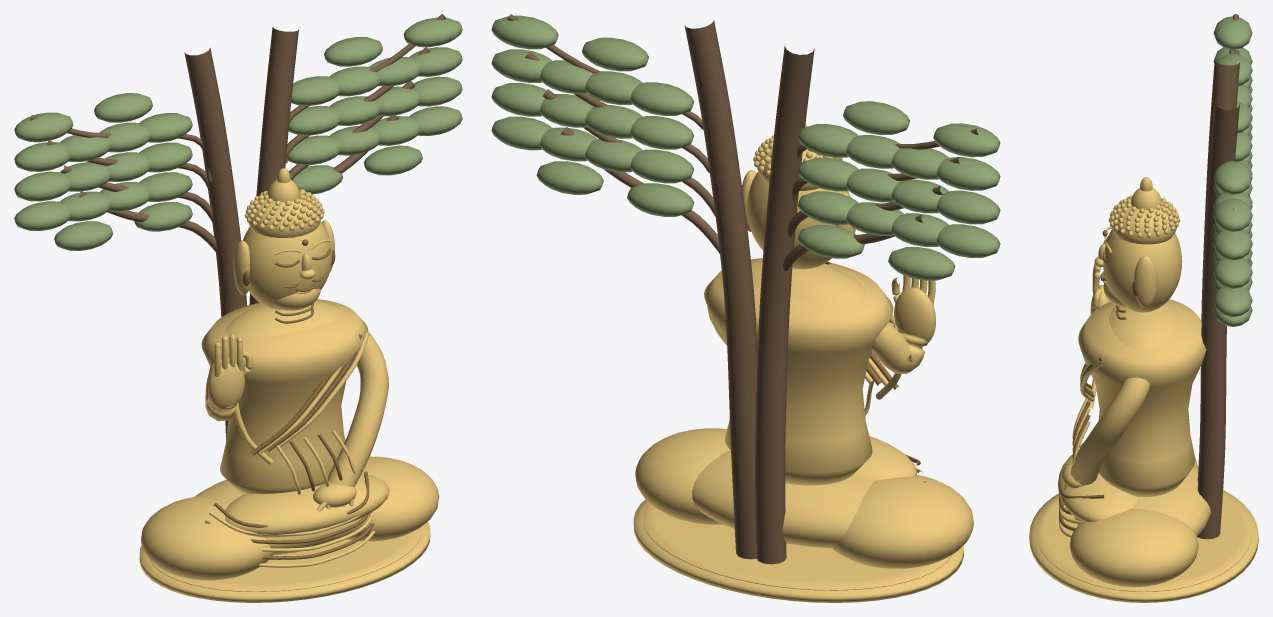
File: buddha-golden.glb
3 views of the same model, side by side, from view 1: azimuth 30°, elevation 25°; view 2: azimuth 150°, elevation 25°; view 3: azimuth 270°, elevation 25° (orthographic). The views are drawn at different scales.
Visible parts, largest first — view 1: Bodhi leaf (×32), robe and torso, Bodhi trunk (×2), lotus base (×2), left knee, folded legs, serene face, right knee, resting sleeve, shoulders, cross-legged lower robe, curled hair cap (+6 smaller); view 2: Bodhi leaf (×32), Bodhi trunk (×2), robe and torso, lotus base (×2), left knee, cross-legged lower robe, right knee, shoulders, serene face, raised sleeve, raised palm, folded legs (+1 smaller); view 3: robe and torso, Bodhi trunk (×2), lotus base (×2), right knee, Bodhi leaf (×10), serene face, resting sleeve, shoulders, folded legs, cross-legged lower robe, curled hair cap, elongated ear (+1 smaller).
Boxes of the visible parts, left/top/right/bottom form: Bodhi leaf (×32): left=14, top=17, right=462, bottom=250; robe and torso: left=201, top=299, right=368, bottom=494; Bodhi trunk (×2): left=184, top=27, right=298, bottom=439; lotus base (×2): left=139, top=521, right=430, bottom=602; left knee: left=141, top=496, right=273, bottom=580; folded legs: left=224, top=473, right=389, bottom=537; serene face: left=243, top=222, right=332, bottom=310; right knee: left=346, top=456, right=439, bottom=541; resting sleeve: left=327, top=332, right=388, bottom=486; shoulders: left=226, top=300, right=343, bottom=339; cross-legged lower robe: left=195, top=479, right=367, bottom=555; curled hair cap: left=248, top=194, right=320, bottom=237; Bodhi leaf (×32): left=491, top=15, right=1000, bottom=280; Bodhi trunk (×2): left=684, top=20, right=814, bottom=564; robe and torso: left=704, top=258, right=893, bottom=485; lotus base (×2): left=633, top=499, right=963, bottom=602; left knee: left=832, top=475, right=973, bottom=568; cross-legged lower robe: left=692, top=450, right=874, bottom=548; right knee: left=635, top=428, right=729, bottom=524; shoulders: left=751, top=259, right=865, bottom=304; serene face: left=747, top=172, right=849, bottom=269; raised sleeve: left=871, top=322, right=927, bottom=374; raised palm: left=894, top=287, right=935, bottom=346; folded legs: left=853, top=436, right=917, bottom=480; robe and torso: left=1078, top=299, right=1206, bottom=497; Bodhi trunk (×2): left=1197, top=61, right=1239, bottom=539; lotus base (×2): left=1029, top=490, right=1258, bottom=602; right knee: left=1069, top=508, right=1198, bottom=587; Bodhi leaf (×10): left=1213, top=16, right=1252, bottom=326; serene face: left=1103, top=229, right=1182, bottom=312; resting sleeve: left=1071, top=377, right=1150, bottom=485; shoulders: left=1109, top=302, right=1178, bottom=349; folded legs: left=1058, top=454, right=1138, bottom=521; cross-legged lower robe: left=1074, top=465, right=1210, bottom=536; curled hair cap: left=1112, top=199, right=1176, bottom=244; elongated ear: left=1133, top=256, right=1157, bottom=307.
Size of the model in its own units: 5.04 by 5.21 by 2.34.
